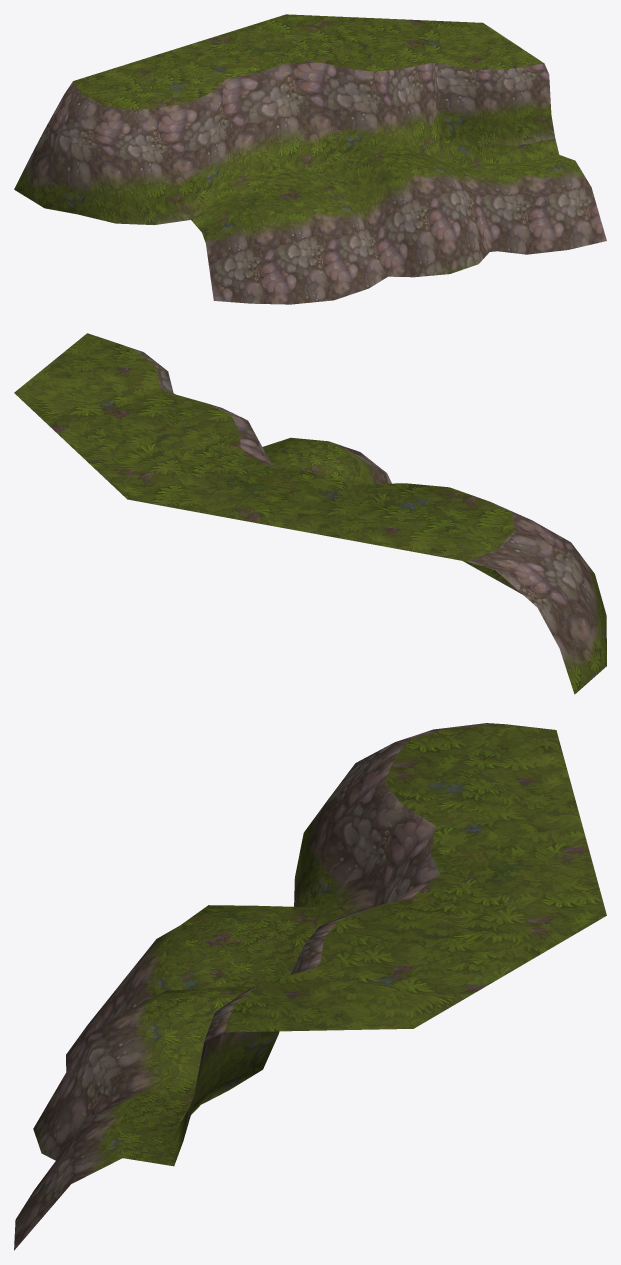
File: Town004_NewTerrain_04.FBX
The picture shows the model from 3 angles, top to bottom: view 1: azimuth 30°, elevation 25°; view 2: azimuth 150°, elevation 25°; view 3: azimuth 270°, elevation 25°; orthographic projection. The views are drawn at different scales.
Parts seen in each view (by area): view 1: Town004_NewTerrain_04; view 2: Town004_NewTerrain_04; view 3: Town004_NewTerrain_04.
Boxes of the visible parts, x1,y1,x2,y2 form: Town004_NewTerrain_04: [14, 14, 606, 304]; Town004_NewTerrain_04: [14, 333, 606, 694]; Town004_NewTerrain_04: [14, 723, 606, 1250].
Size of the model in its own units: 5107 by 1542 by 3568.
2 materials, 2 textured.
